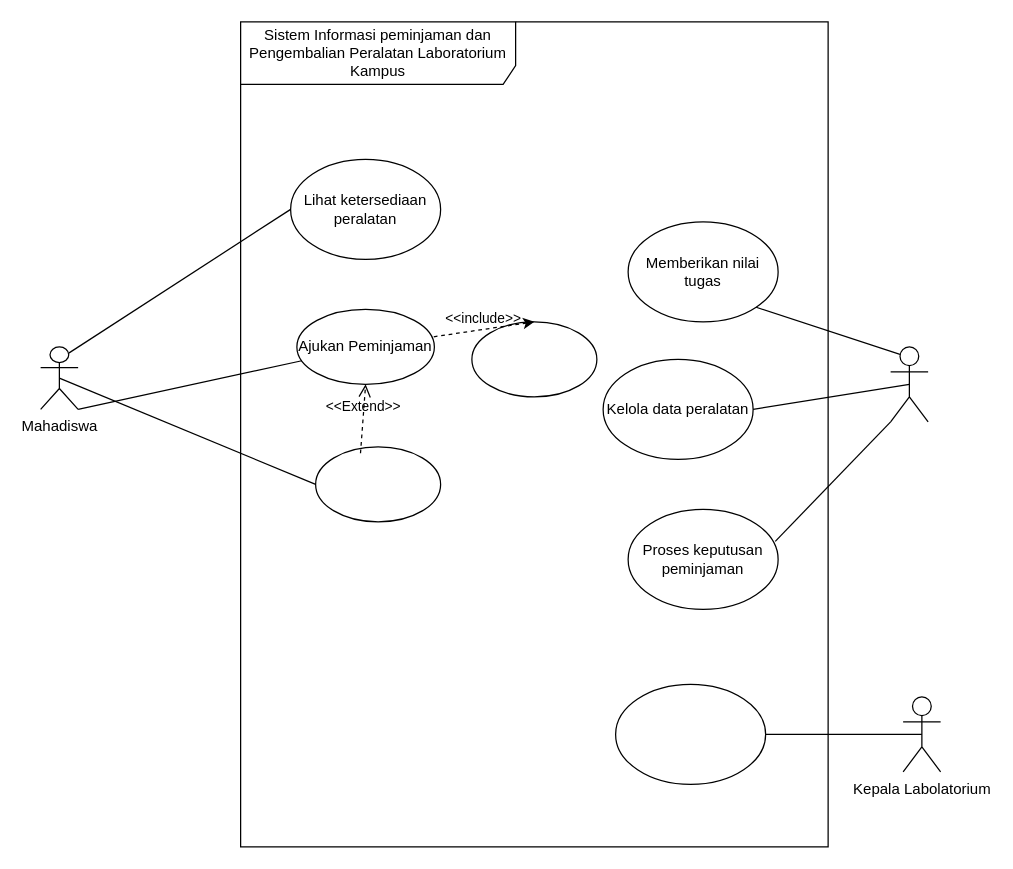
Some shapes in this 1013 by 869 pixel diagram are drawn without their labels. Each missing label, with the centre of its shape:
Cetak bukti pengajuan: the point at 377,484
Lihat laporan peminjaman: the point at 690,733
Periksan ketersediaan: the point at 534,359
Petugas Laporan: the point at 908,384
